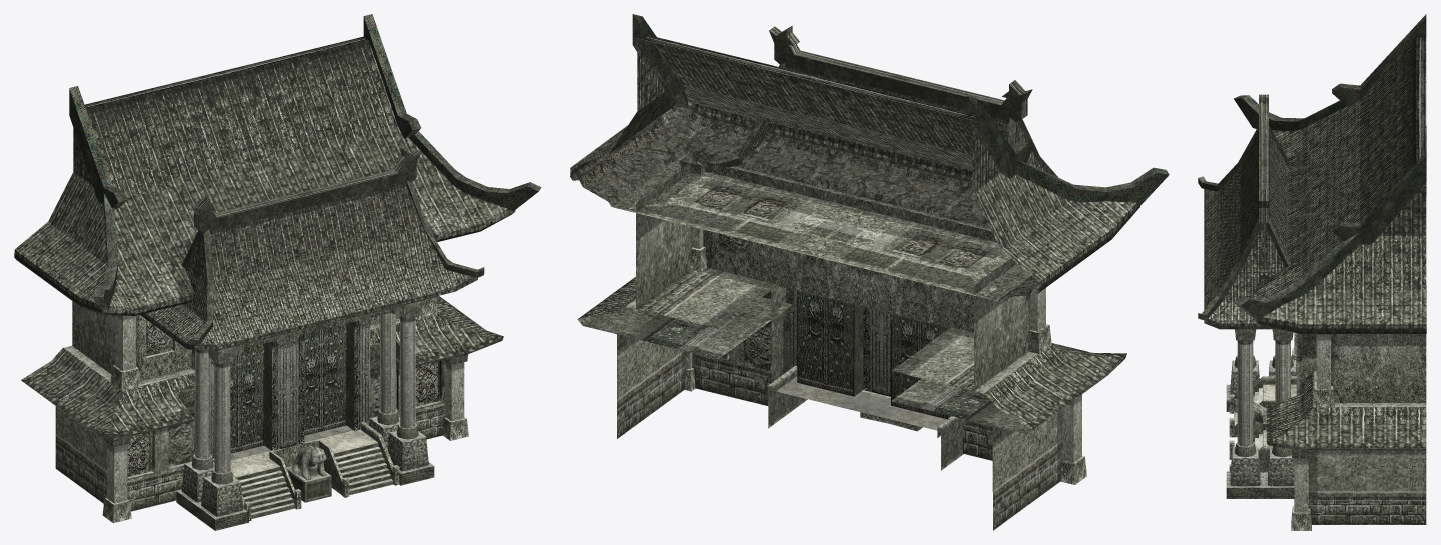
File: ob-5-03thiefden.fbx
The picture shows the model from 3 angles, left to right: view 1: azimuth 30°, elevation 25°; view 2: azimuth 150°, elevation 25°; view 3: azimuth 270°, elevation 25°; orthographic projection. The views are drawn at different scales.
Visible parts, largest first — view 1: ob-5-03 thief den01; view 2: ob-5-03 thief den01; view 3: ob-5-03 thief den01.
Boxes of the visible parts, bbox=[...] form: ob-5-03 thief den01: bbox=[14, 14, 541, 530]; ob-5-03 thief den01: bbox=[570, 14, 1169, 530]; ob-5-03 thief den01: bbox=[1198, 14, 1426, 530].
Bounding box in the file's own units: 24.59 × 19.81 × 11.27.
